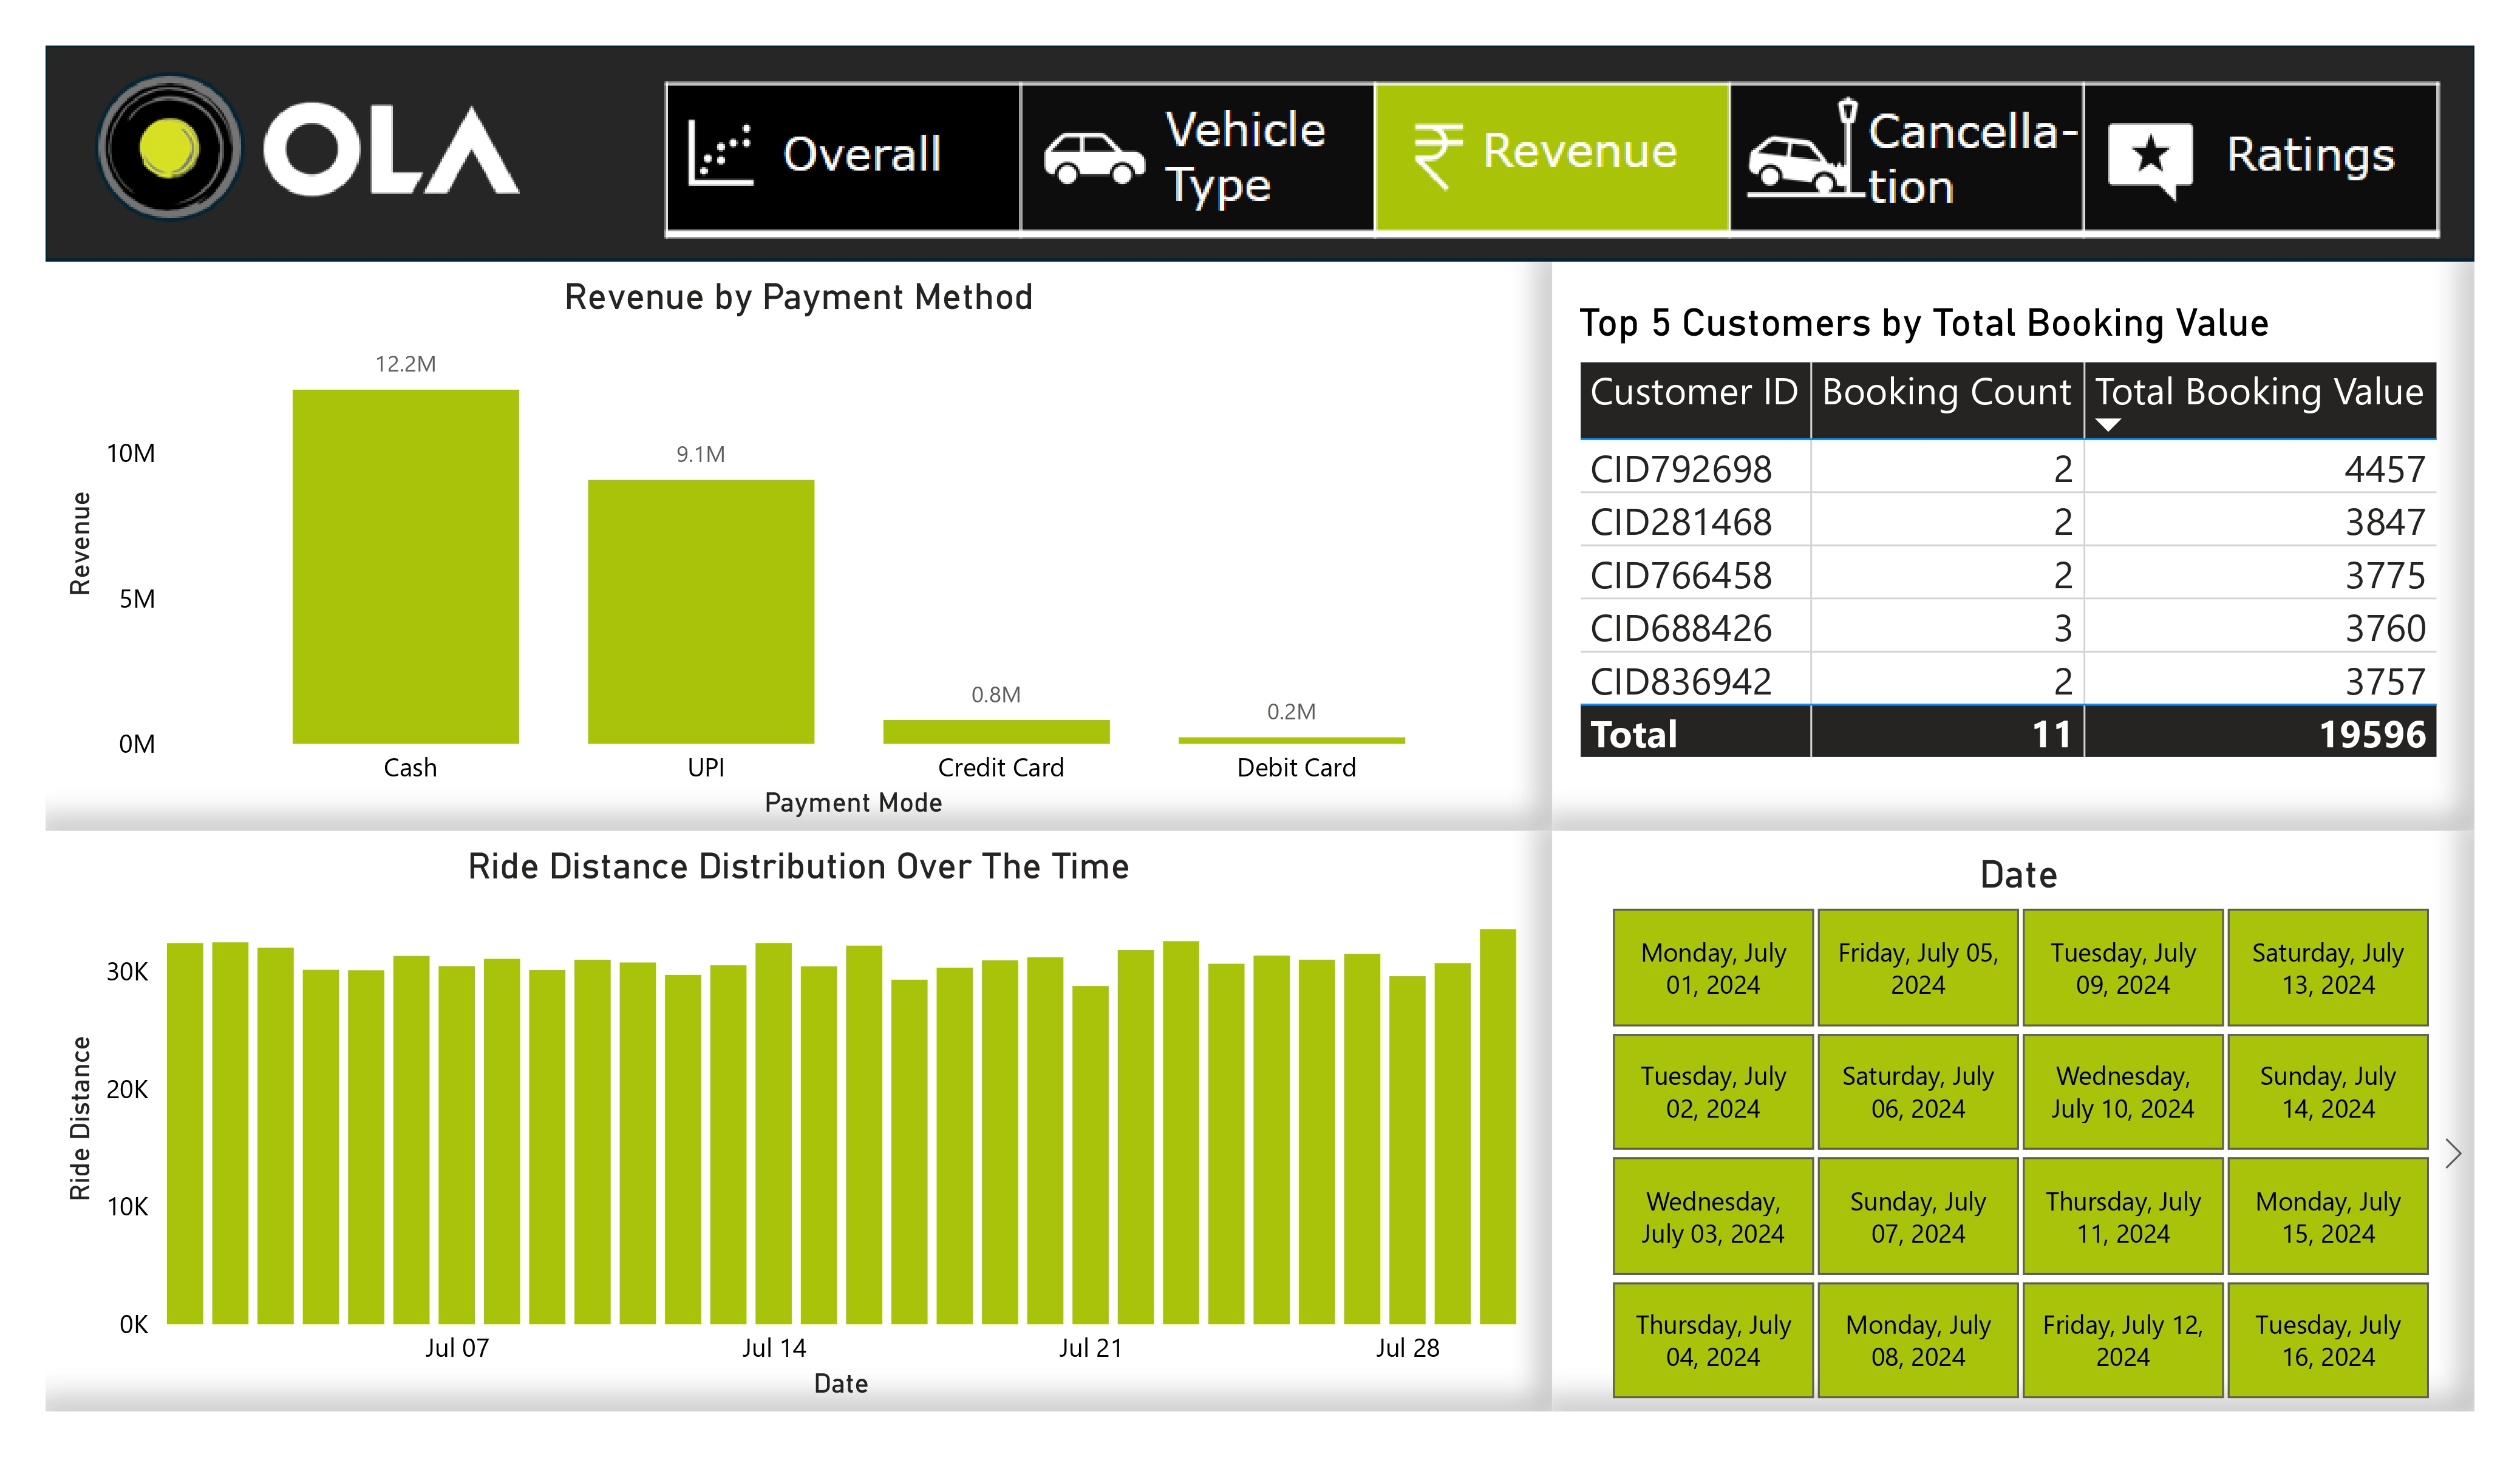

The page's visual inventory and layout, read from the dashboard file:
{"tool":"powerbi","page":{"name":"Revenue","canvas":[1280,720],"ordinal":2},"visuals":[{"type":"actionButton","box":[1085,26.7,168.3,66.7],"z":0},{"type":"actionButton","box":[896.7,26.7,168.3,66.7],"z":1000},{"type":"actionButton","box":[520,26.7,176.7,66.7],"z":2000},{"type":"actionButton","box":[333.3,26.7,171.7,66.7],"z":3000},{"type":"columnChart","title":"Revenue by Payment Method","fields":{"Y":["Sum(July.Booking_Value)"],"Category":["July.Payment_Method"]},"box":[0,114.3,794.3,300],"z":3001},{"type":"tableEx","title":"Top 5 Customers by Total Booking Value","fields":{"Values":["July.Customer_ID","July.Booking_ID","Sum(July.Booking_Value)"]},"box":[794.3,114.3,485.7,300],"z":3002},{"type":"columnChart","title":"Ride Distance Distribution Over The Time","fields":{"Y":["Sum(July.Ride_Distance)"],"Category":["July.Date"]},"box":[0,414.3,794.3,305.7],"z":3003},{"type":"slicer","title":"Date","fields":{"Values":["July.Date"]},"box":[794.3,414.3,485.7,305.7],"z":3004}]}

Visuals, with their boxes on the page's 1280x720 design canvas (x1, y1, x2, y2). These are canvas units, not pixel positions in the 2520x1457 screenshot, which may show the page scaled, cropped or inside an application window:
actionButton: select_region(1085, 27, 1253, 93)
actionButton: select_region(897, 27, 1065, 93)
actionButton: select_region(520, 27, 697, 93)
actionButton: select_region(333, 27, 505, 93)
"Revenue by Payment Method" columnChart: select_region(0, 114, 794, 414)
"Top 5 Customers by Total Booking Value" tableEx: select_region(794, 114, 1280, 414)
"Ride Distance Distribution Over The Time" columnChart: select_region(0, 414, 794, 720)
"Date" slicer: select_region(794, 414, 1280, 720)
